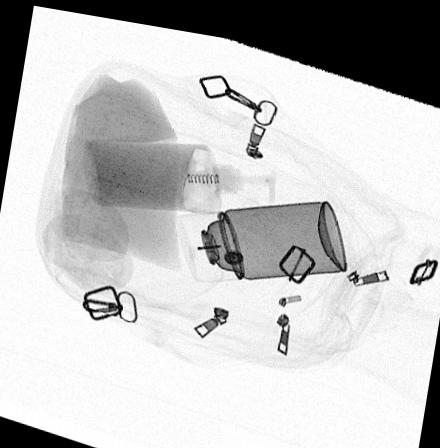Sprayer: (174, 187, 346, 276)
